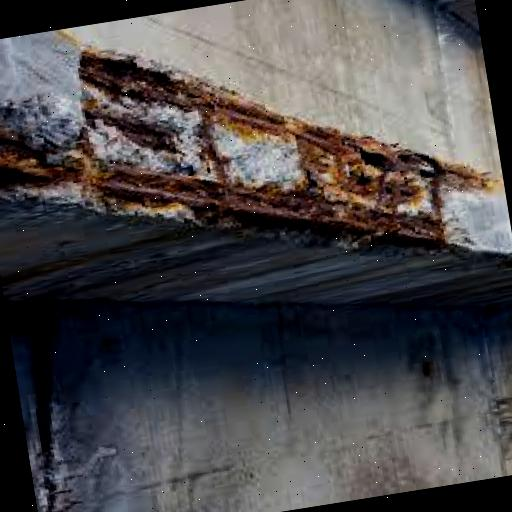spalling: (0, 47, 495, 252)
